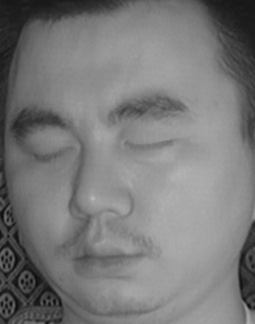blink: (119, 126, 178, 165), (26, 135, 79, 171)
mouth: (65, 232, 154, 285)
